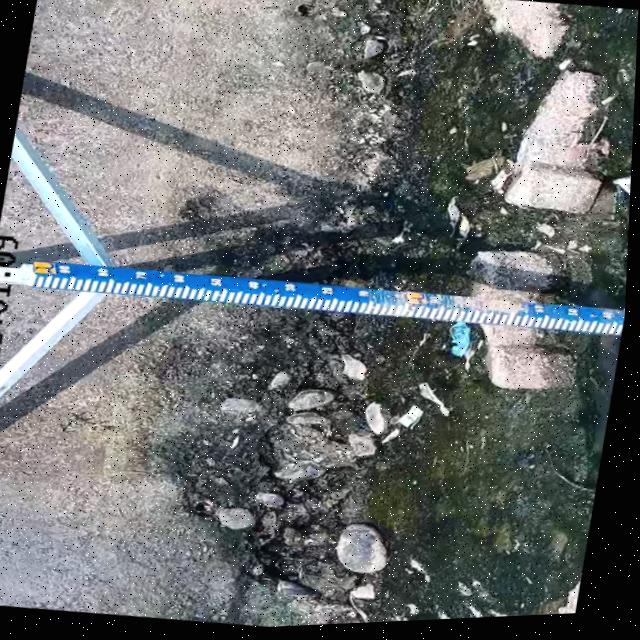water-meter: (18, 227, 629, 365)
